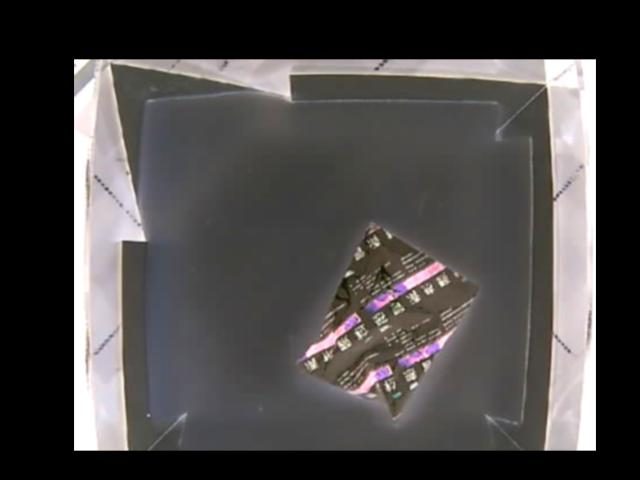Medicine: (300, 224, 480, 418)
